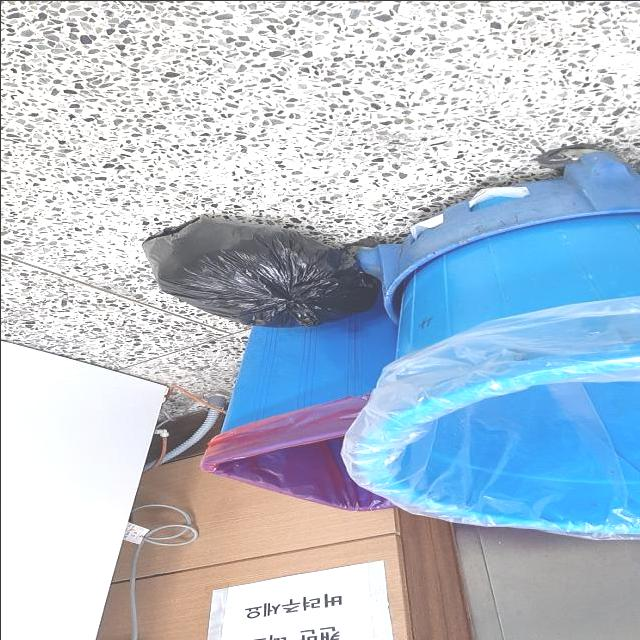black_bag: (139, 212, 384, 326)
